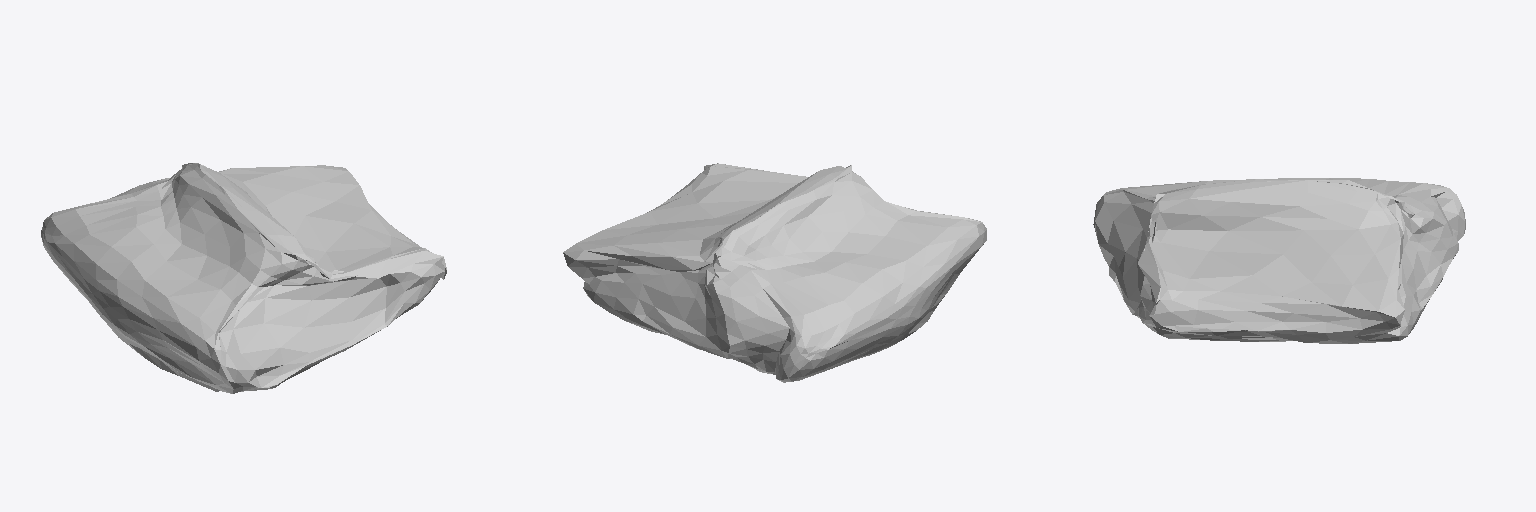
The model's file is video3_233.obj.
3 renders of one model, left to right at view 1: azimuth 30°, elevation 25°; view 2: azimuth 150°, elevation 25°; view 3: azimuth 270°, elevation 25°, orthographic.
Bounding box in the file's own units: 0.9108 × 0.3899 × 1.